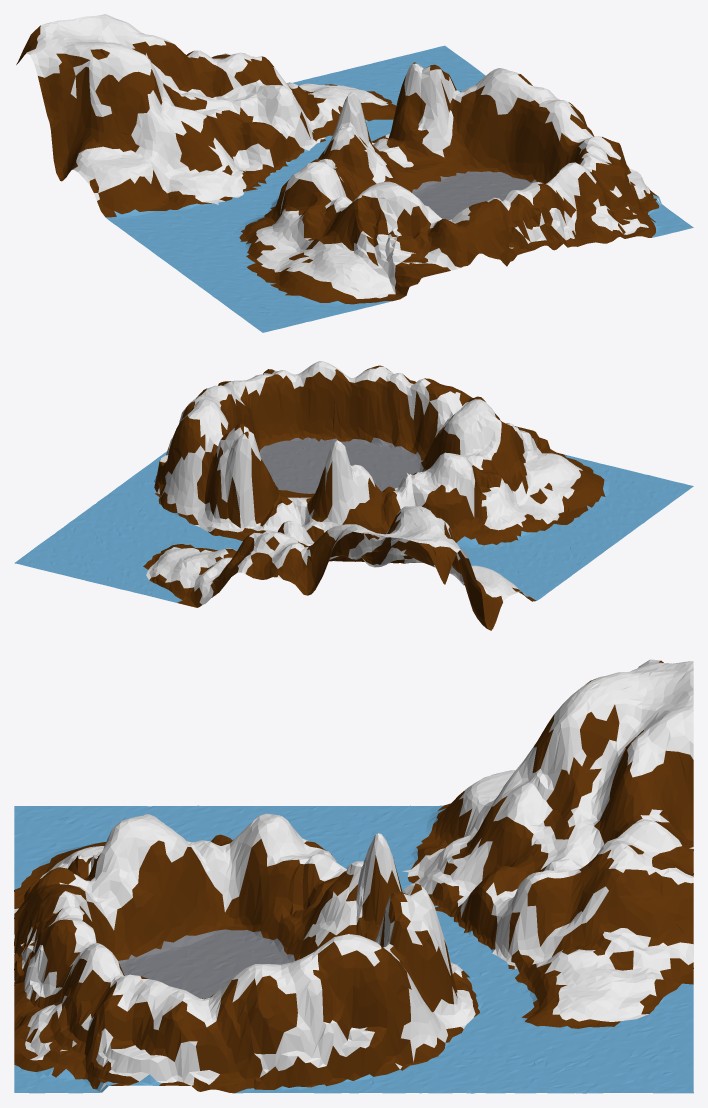
Rendered from game.fbx.
3 renders of one model, top to bottom at view 1: azimuth 30°, elevation 25°; view 2: azimuth 150°, elevation 25°; view 3: azimuth 270°, elevation 25°, orthographic. The views are drawn at different scales.
Parts seen in each view (by area): view 1: Terrain; view 2: Terrain; view 3: Terrain.
Boxes of the visible parts, x1,y1,x2,y2 form: Terrain: (16, 14, 693, 332); Terrain: (14, 361, 693, 630); Terrain: (14, 659, 693, 1093).
Size of the model in its own units: 50011 by 13292 by 50034.
